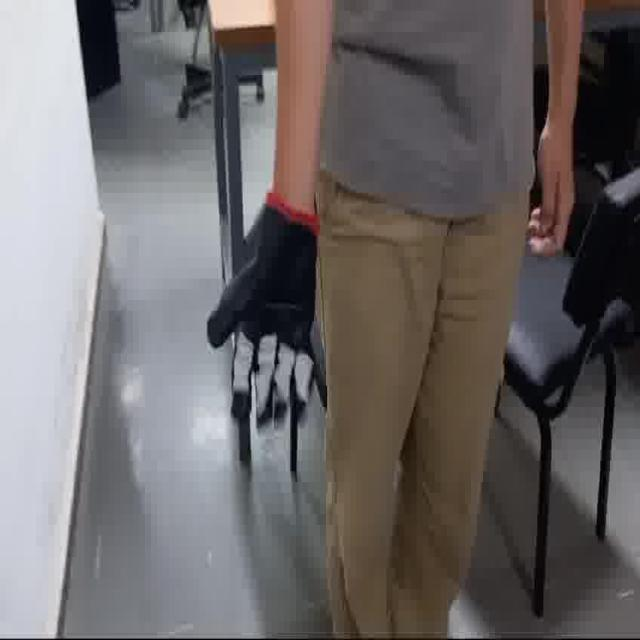Gloves: (222, 186, 328, 438)
